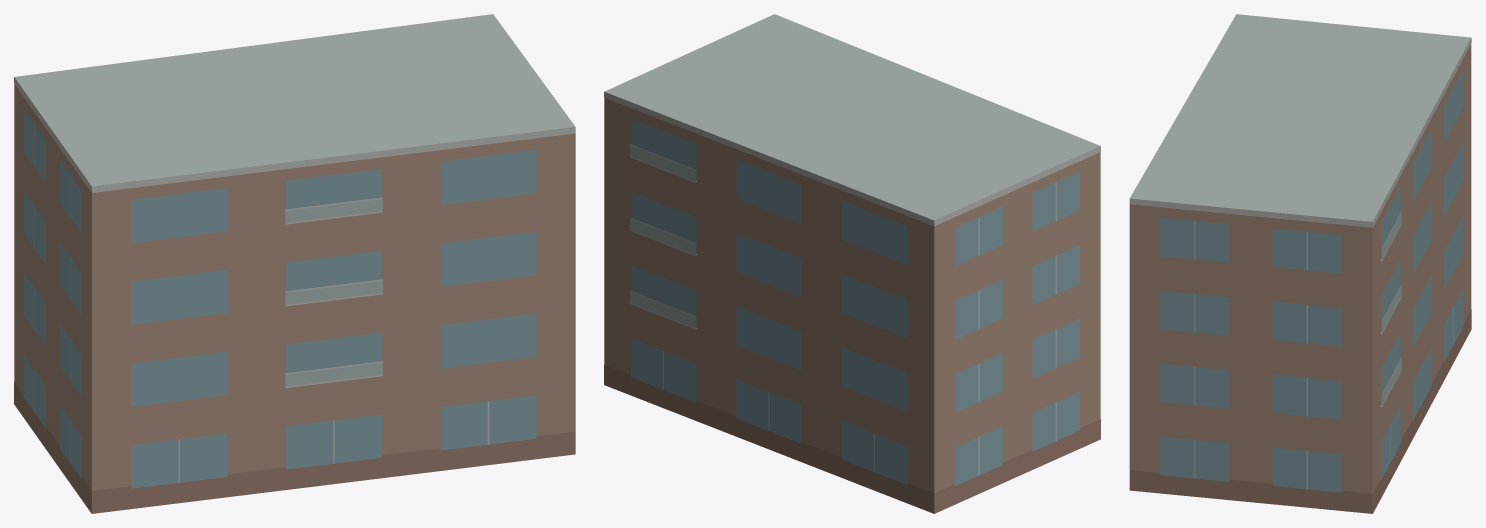
File: survey-upis-32663581.glb
The picture shows the model from 3 angles, left to right: view 1: azimuth 30°, elevation 25°; view 2: azimuth 150°, elevation 25°; view 3: azimuth 270°, elevation 25°; orthographic projection. The views are drawn at different scales.
Visible parts, largest first — view 1: survey-upis-32663581.tmp; view 2: survey-upis-32663581.tmp; view 3: survey-upis-32663581.tmp.
Part boxes in pixels (<box>): survey-upis-32663581.tmp: <box>14,14,575,513</box>; survey-upis-32663581.tmp: <box>604,14,1100,513</box>; survey-upis-32663581.tmp: <box>1129,14,1471,513</box>.
Bounding box in the file's own units: 18.64 × 12.2 × 12.96.
